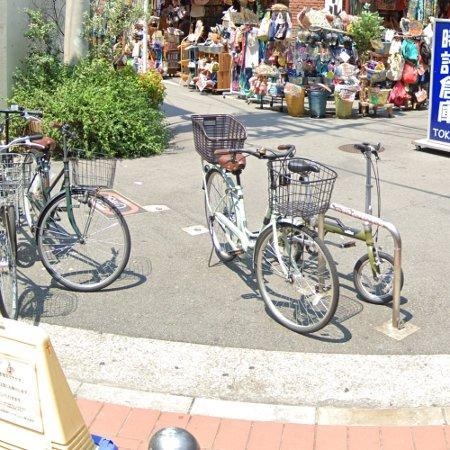bicycles: (193, 115, 340, 333), (25, 127, 131, 292), (0, 135, 40, 320)
